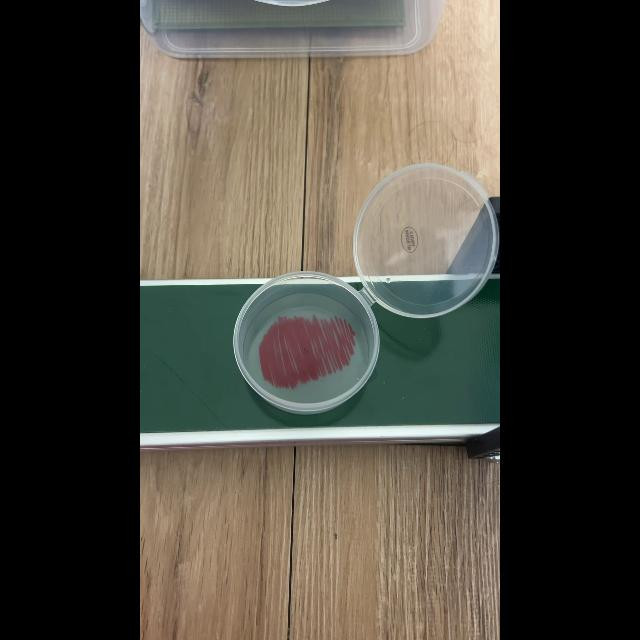dirty: (240, 284, 366, 402)
